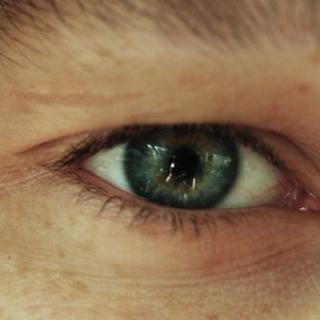pupil: (168, 146, 200, 178)
